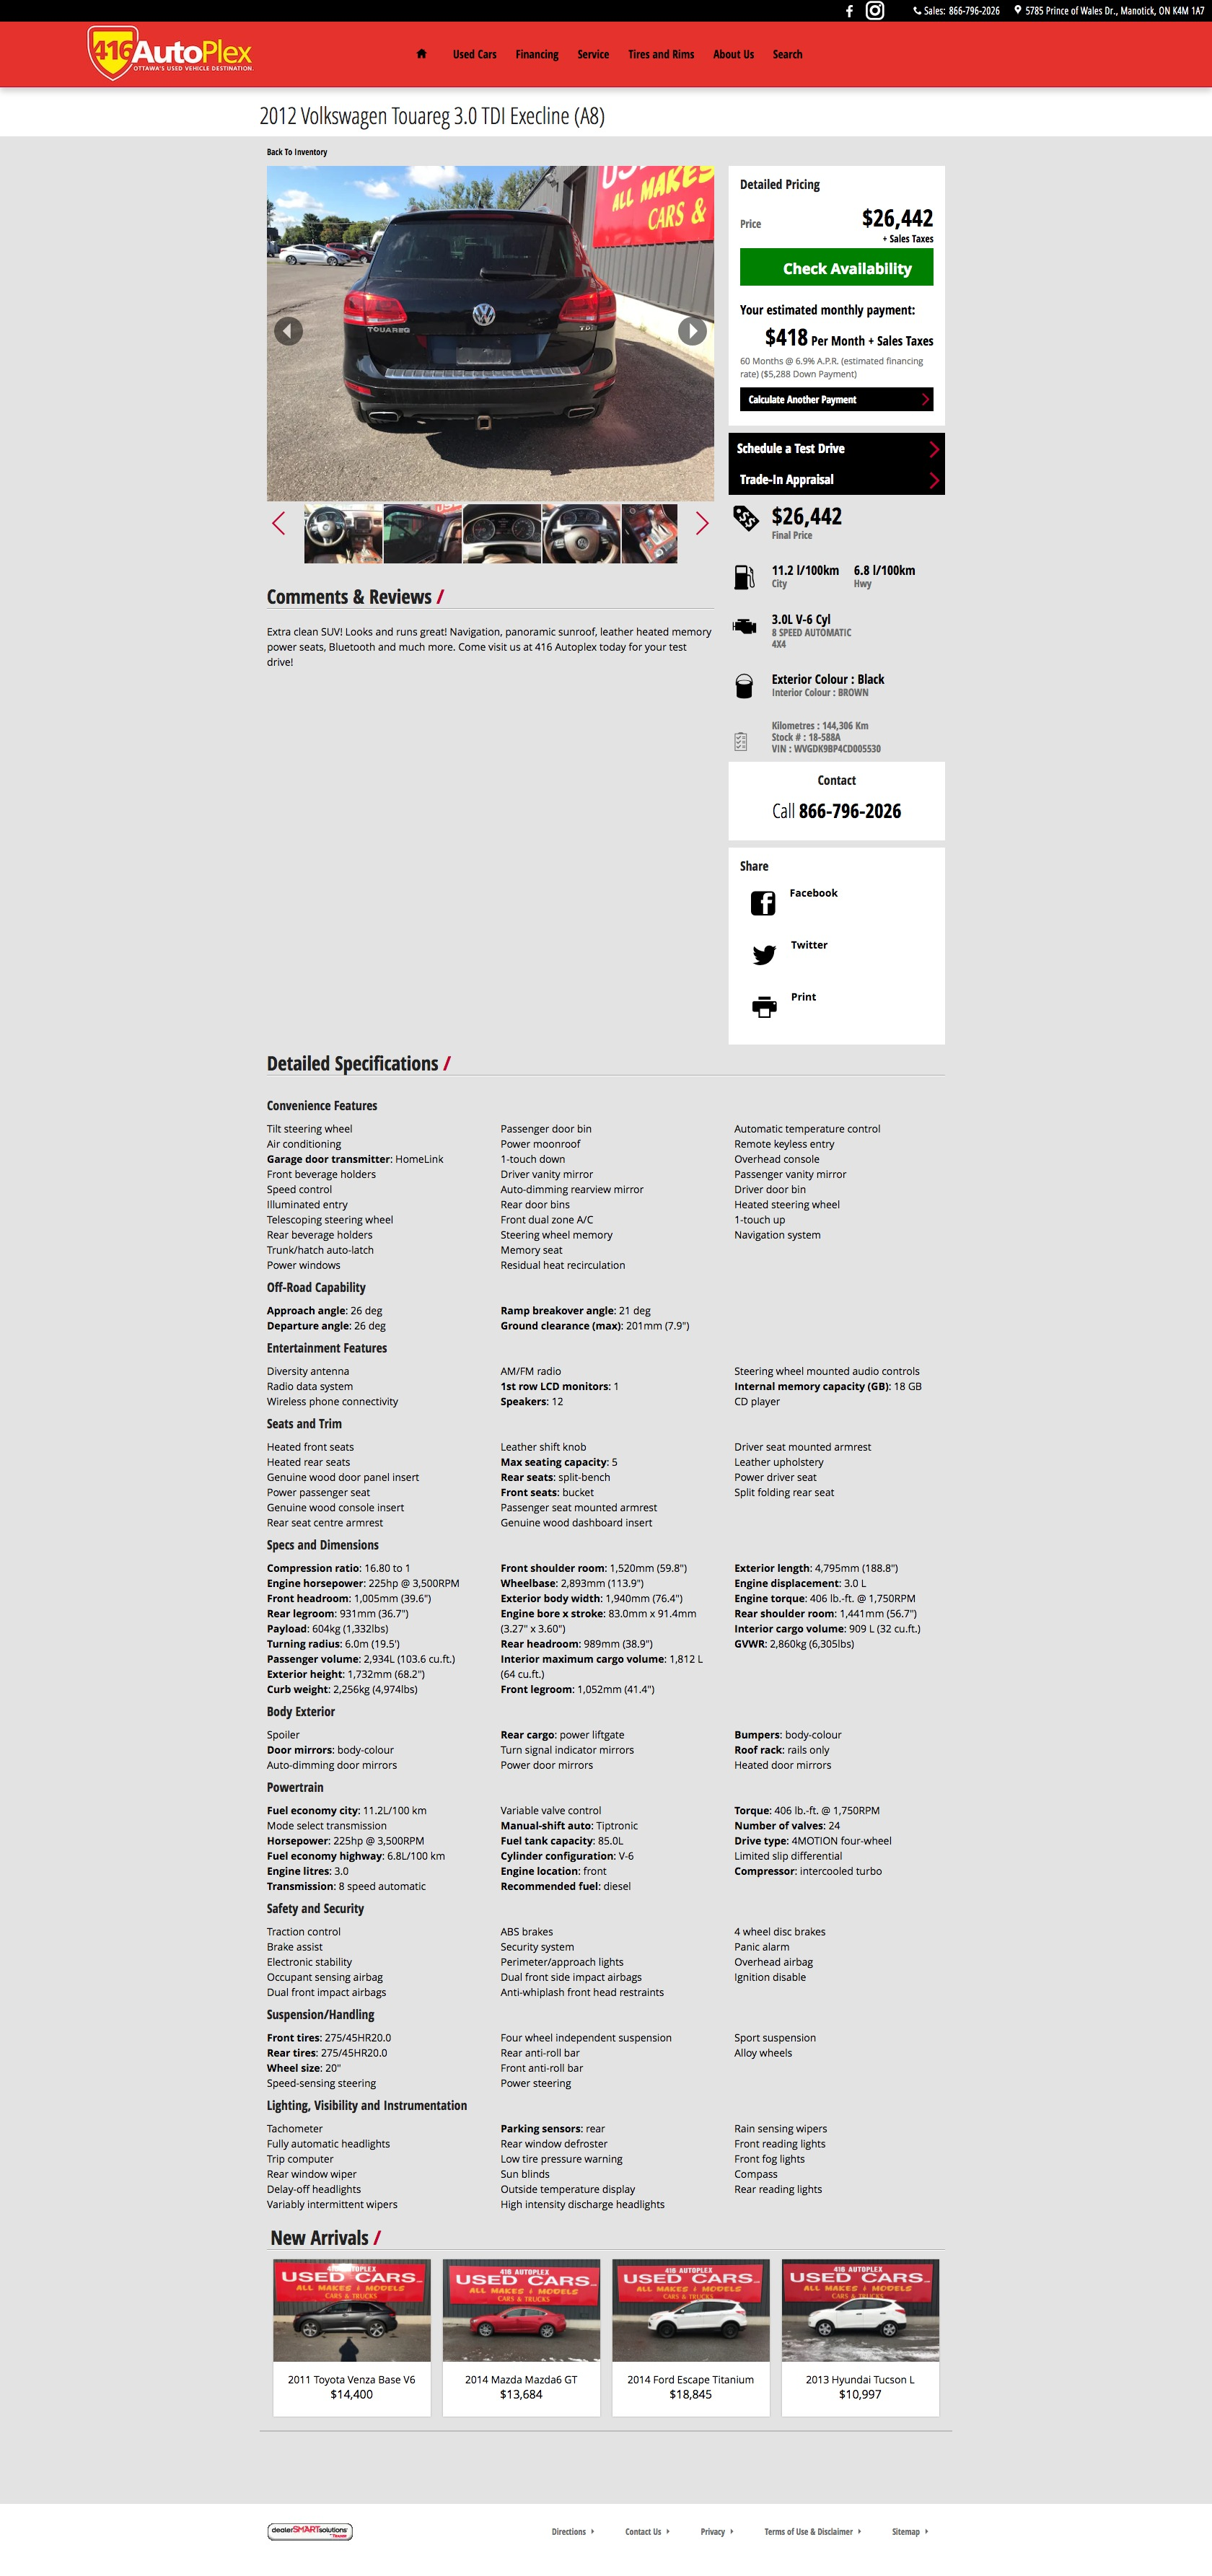car: (693, 511, 713, 537)
